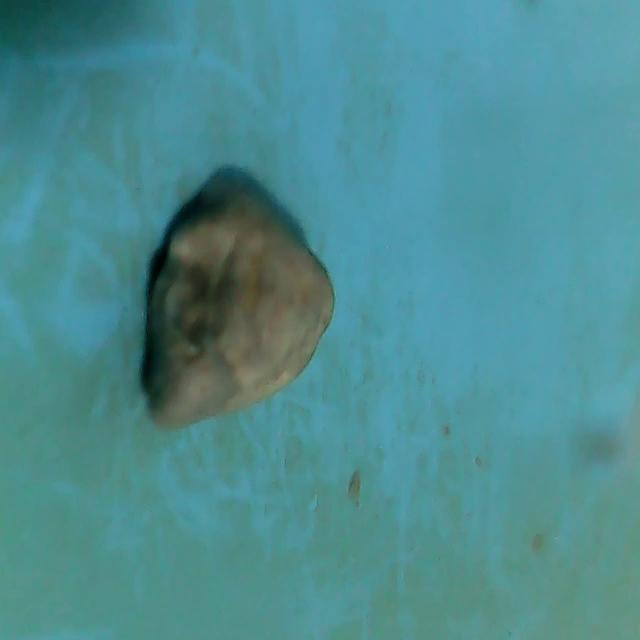rock: (129, 172, 340, 444)
